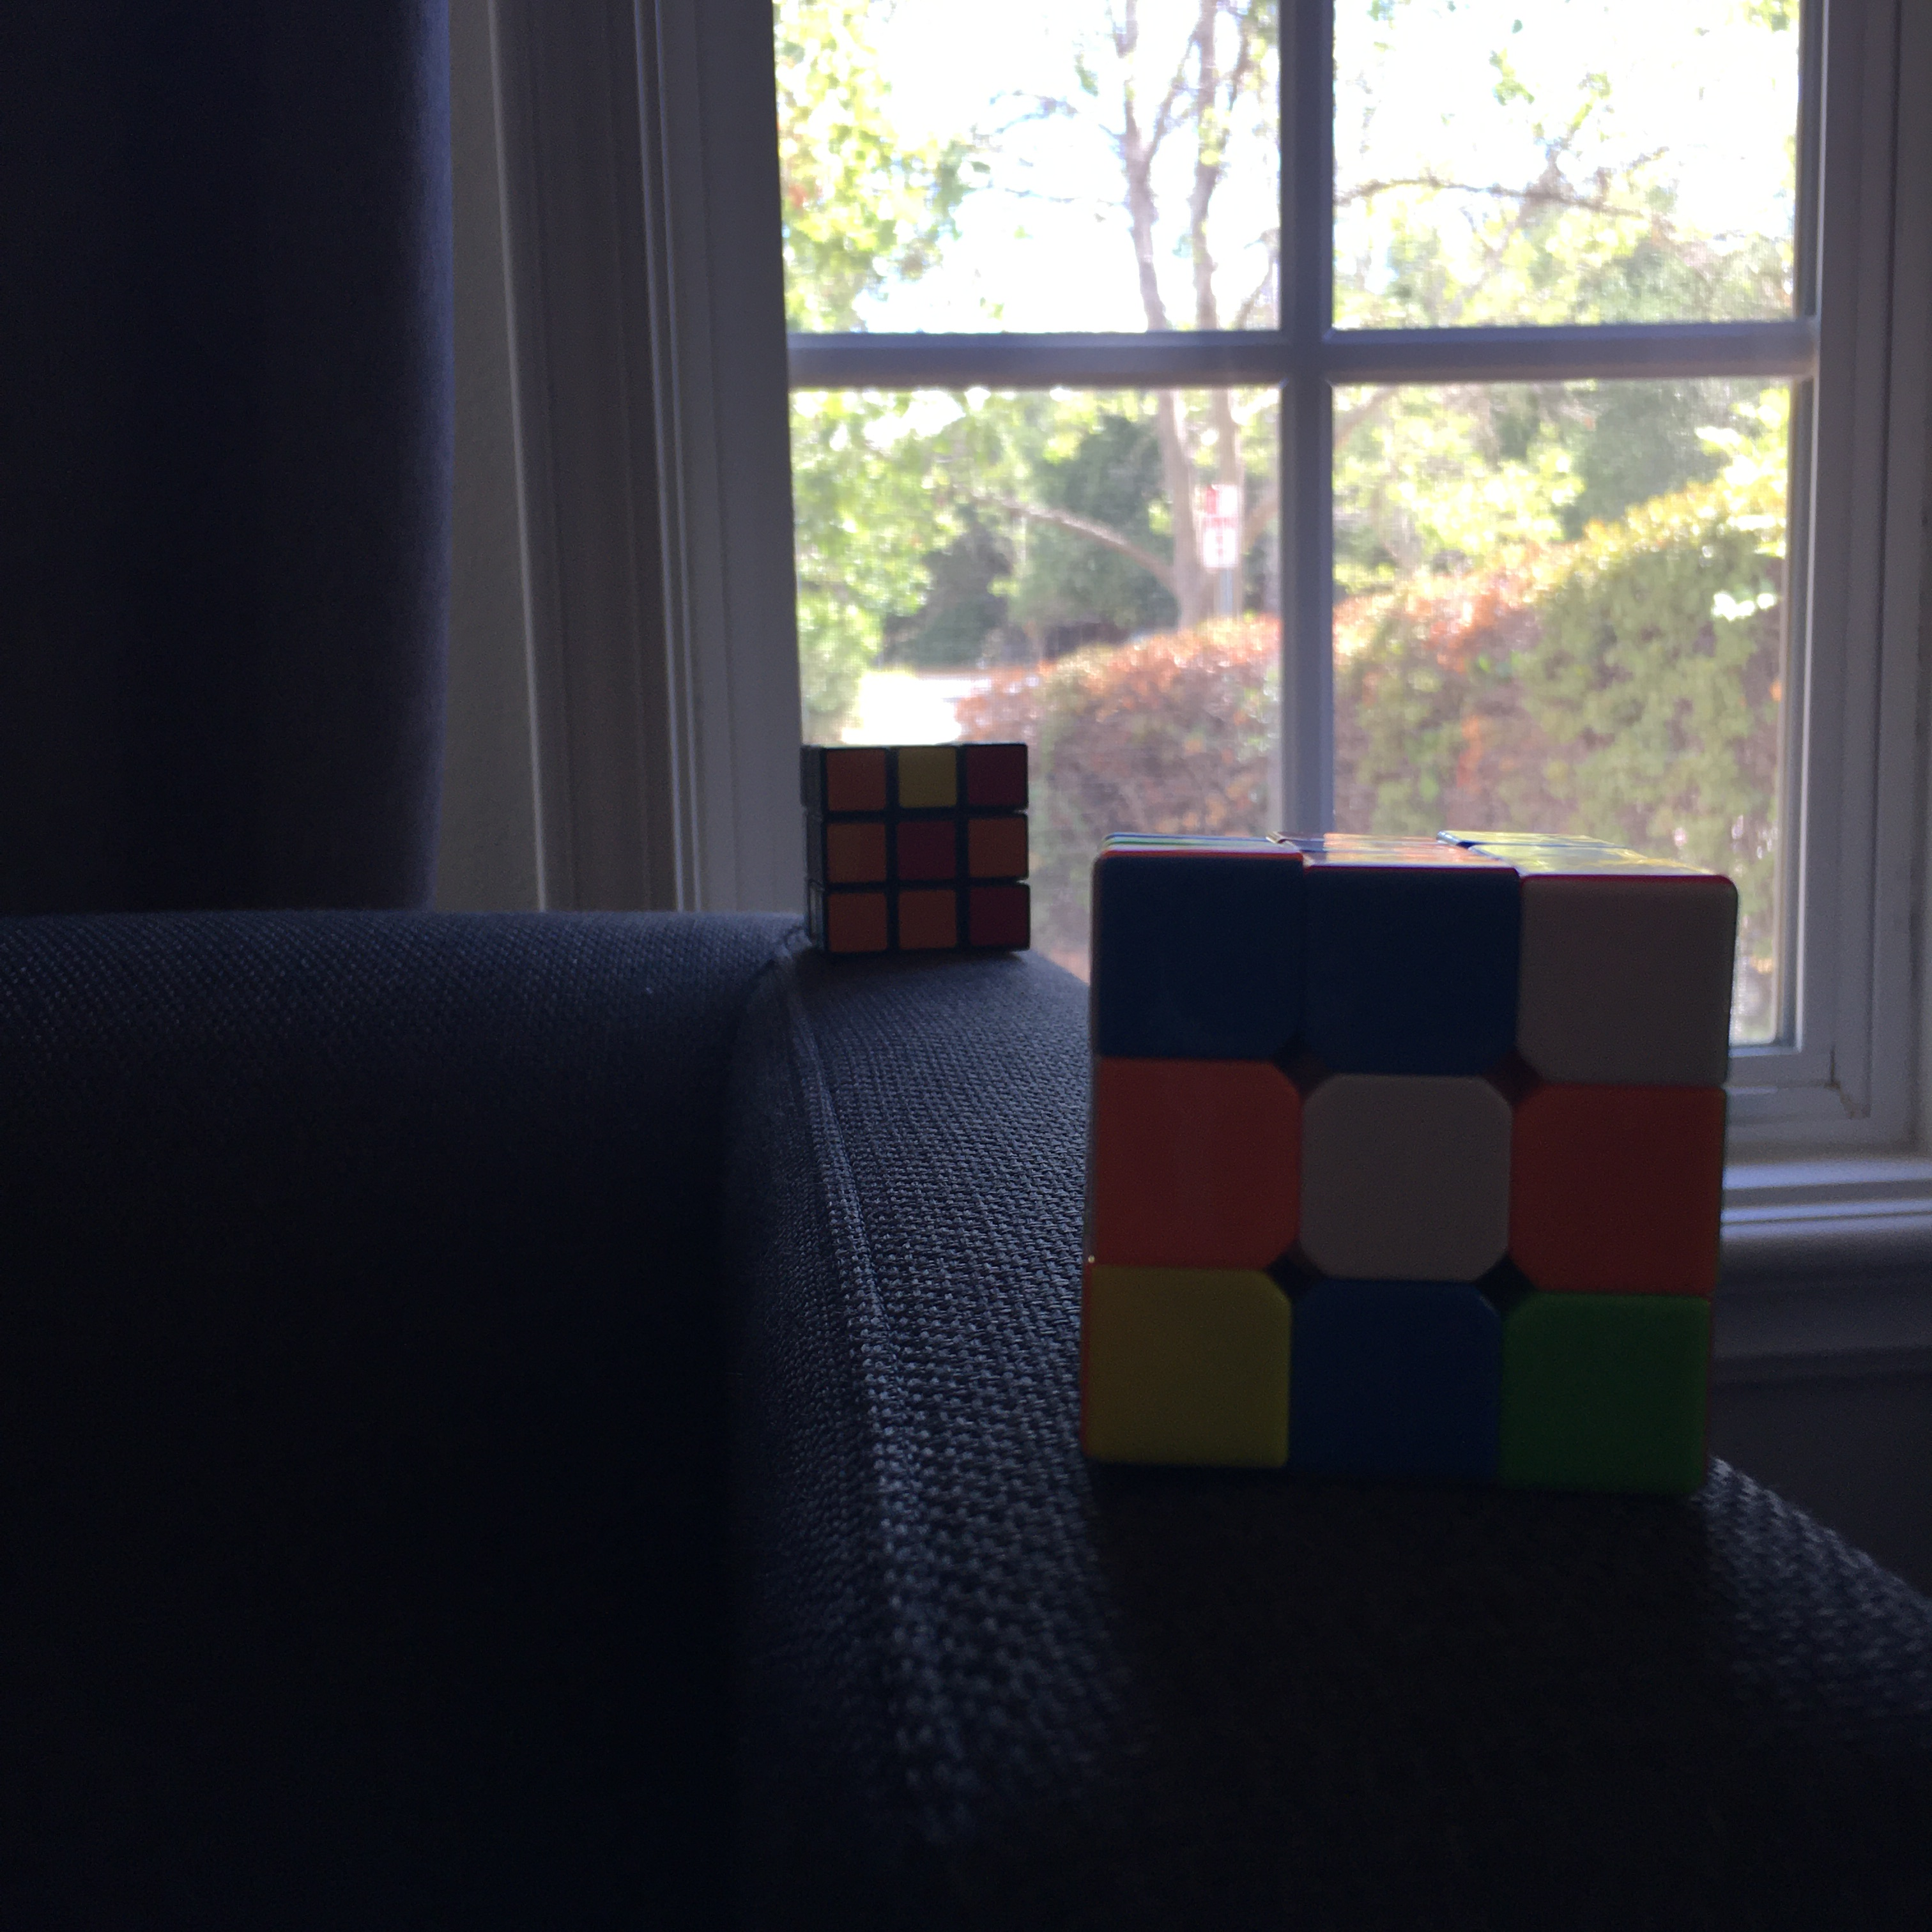face: (1087, 855, 1716, 1496), (822, 740, 1041, 957)
